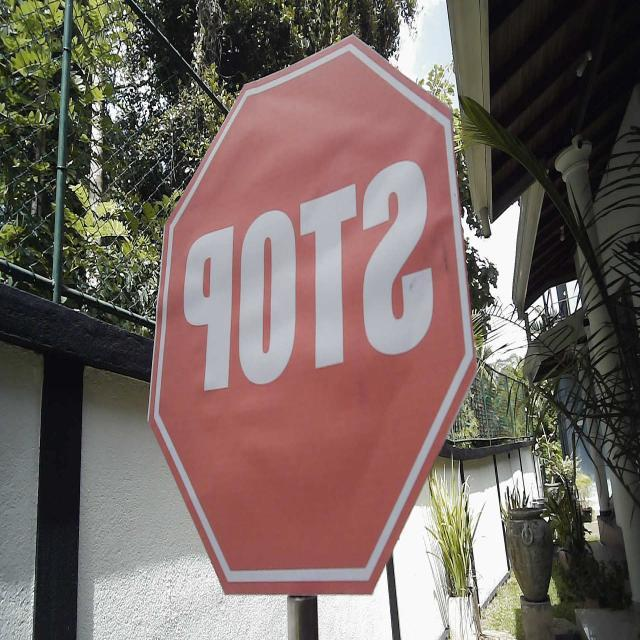stop: (145, 31, 479, 600)
